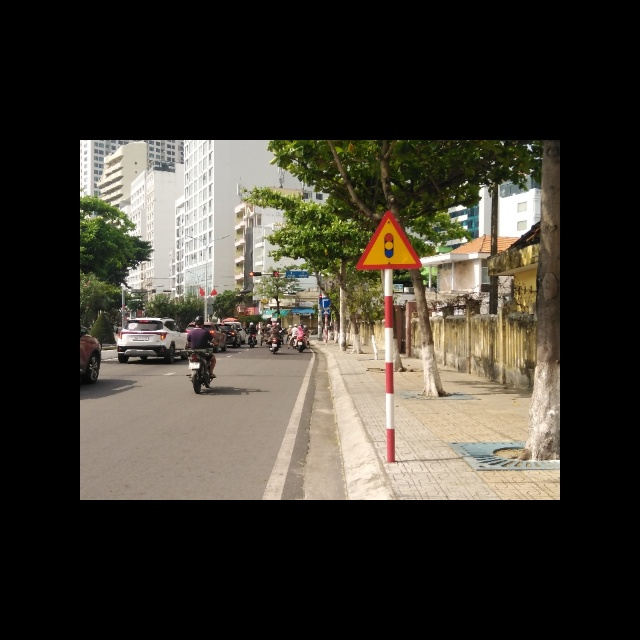Giao nhau có tín hiệu đèn: (356, 208, 423, 272)
